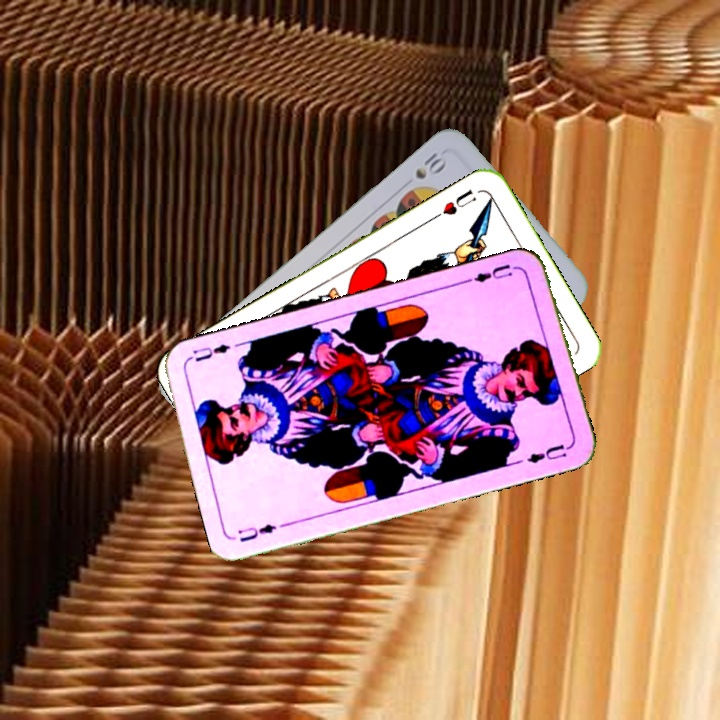EU: (463, 260, 515, 285), (234, 519, 279, 545)
HU: (429, 185, 479, 222)
S10: (411, 146, 449, 182)
